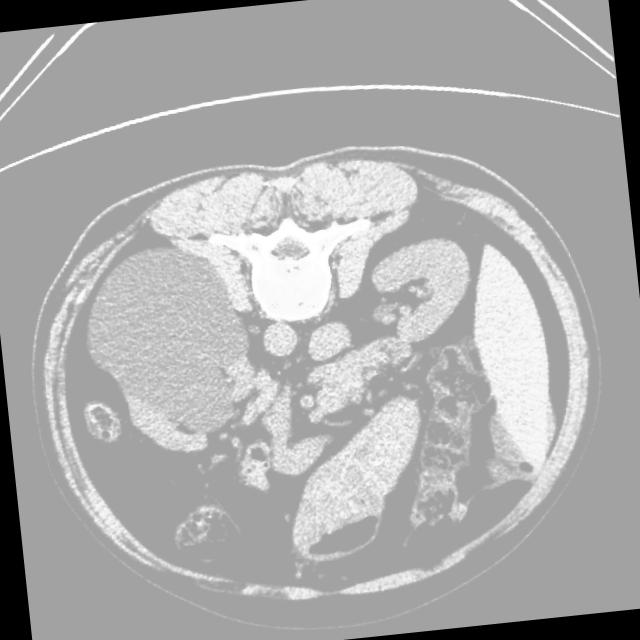cysts: (23, 126, 617, 631)
